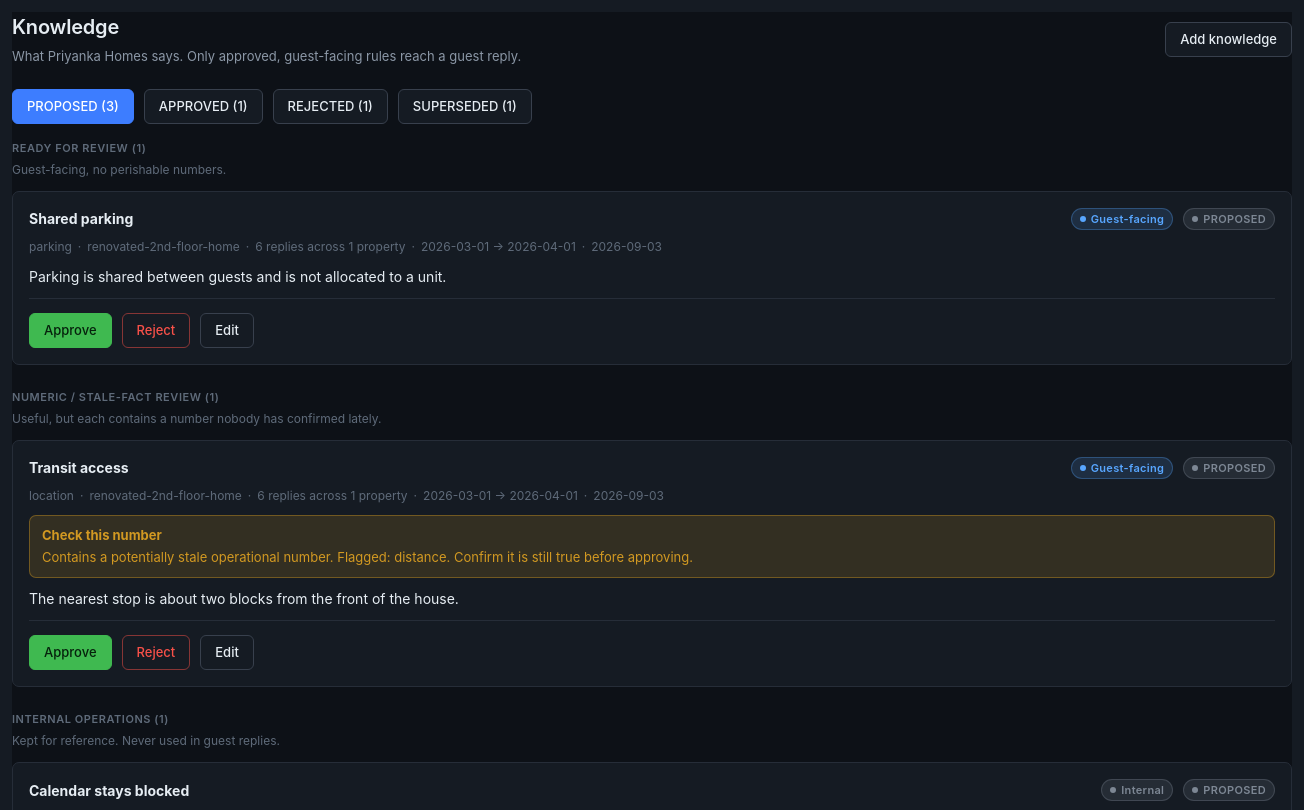
Scenario: KnowledgePage › offers a form for owner-authored knowledge
Click the button "Add knowledge": (1229, 39) x1=1165 y1=22 x2=1292 y2=57
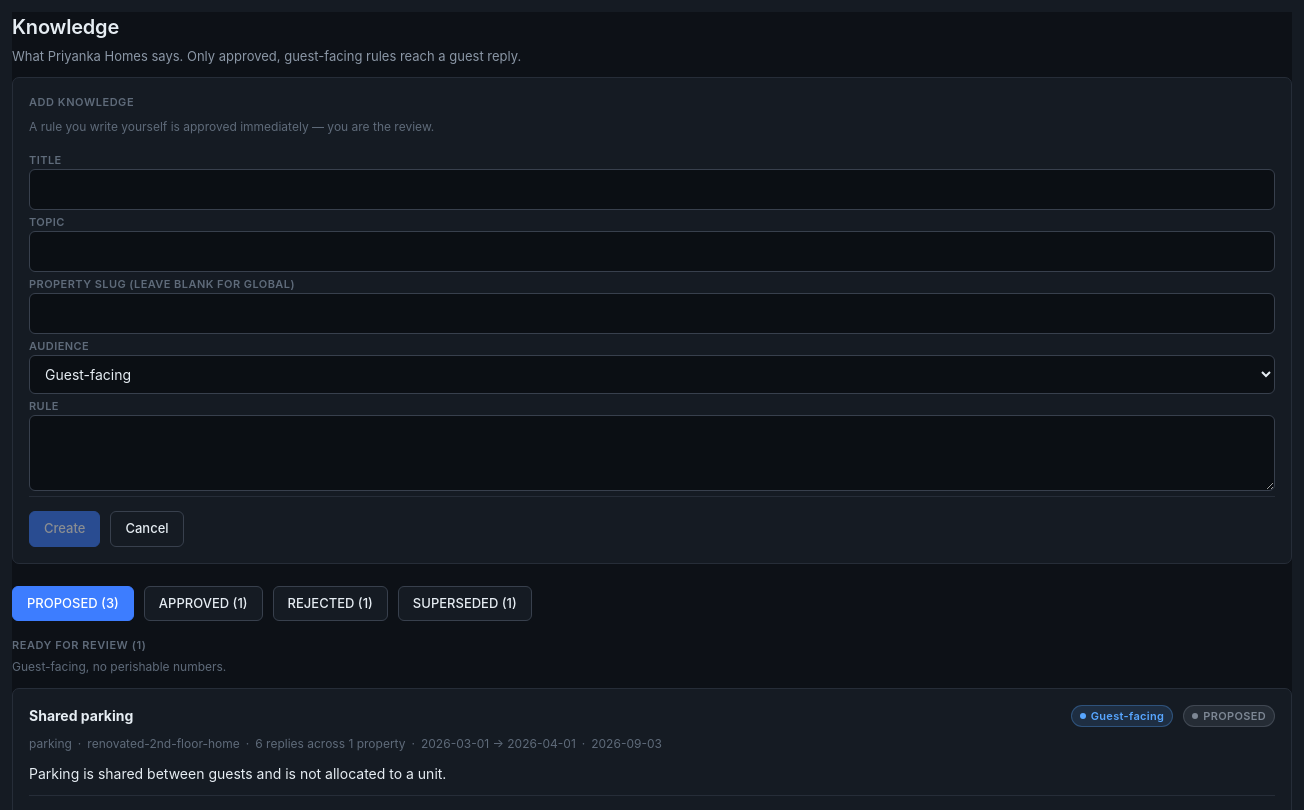
Result: the field labelled "Title" is shown at x1=29 y1=169 x2=1275 y2=210
Result: the field labelled "Topic" is shown at x1=29 y1=231 x2=1275 y2=272
Result: the dropdown labelled "Audience" is shown at x1=29 y1=355 x2=1275 y2=394
